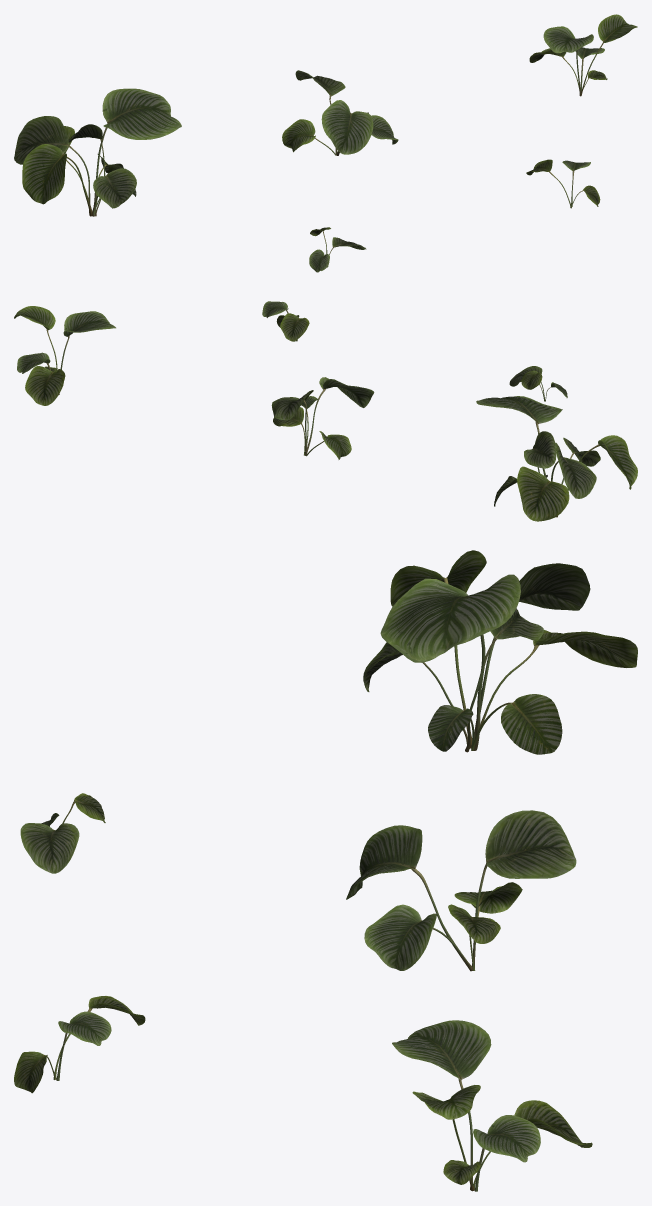
Rendered from calathea_orbifolia_01.gltf.
3 views of the same model, one above another, from view 1: azimuth 30°, elevation 25°; view 2: azimuth 150°, elevation 25°; view 3: azimuth 270°, elevation 25° (orthographic). The views are drawn at different scales.
Visible parts, largest first — view 1: calathea_orbifolia_01_a, calathea_orbifolia_01_b, calathea_orbifolia_01_c, calathea_orbifolia_01_e, calathea_orbifolia_01_d; view 2: calathea_orbifolia_01_a, calathea_orbifolia_01_c, calathea_orbifolia_01_b, calathea_orbifolia_01_e, calathea_orbifolia_01_d; view 3: calathea_orbifolia_01_a, calathea_orbifolia_01_b, calathea_orbifolia_01_c, calathea_orbifolia_01_e, calathea_orbifolia_01_d.
Boxes of the visible parts, bbox=[...] form: calathea_orbifolia_01_a: bbox=[14, 88, 181, 216]; calathea_orbifolia_01_b: bbox=[282, 70, 398, 155]; calathea_orbifolia_01_c: bbox=[529, 14, 637, 96]; calathea_orbifolia_01_e: bbox=[526, 159, 600, 208]; calathea_orbifolia_01_d: bbox=[309, 227, 366, 272]; calathea_orbifolia_01_a: bbox=[476, 396, 637, 521]; calathea_orbifolia_01_c: bbox=[14, 306, 115, 405]; calathea_orbifolia_01_b: bbox=[271, 377, 374, 459]; calathea_orbifolia_01_e: bbox=[262, 301, 309, 341]; calathea_orbifolia_01_d: bbox=[509, 366, 567, 401]; calathea_orbifolia_01_a: bbox=[363, 550, 637, 754]; calathea_orbifolia_01_b: bbox=[346, 810, 576, 971]; calathea_orbifolia_01_c: bbox=[392, 1020, 592, 1191]; calathea_orbifolia_01_e: bbox=[14, 996, 145, 1093]; calathea_orbifolia_01_d: bbox=[20, 793, 105, 873].
Bounding box in the file's own units: 2.49 × 0.4243 × 1.19.
1 material, 1 textured.
